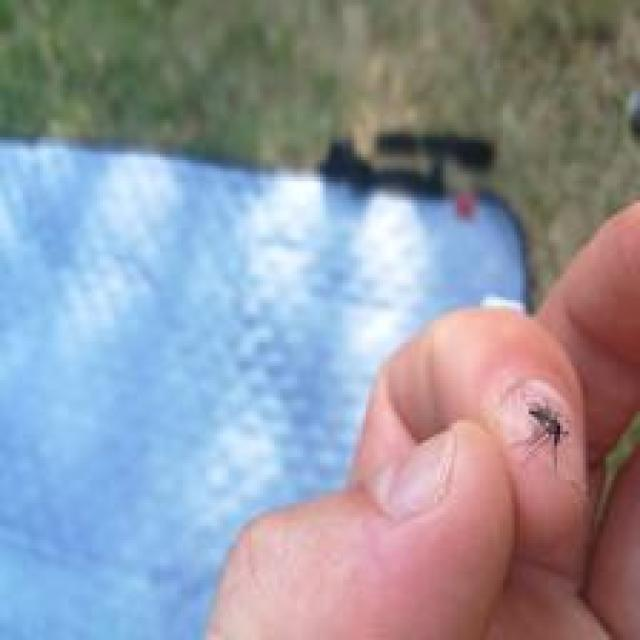Aedes albopictus: (521, 400, 570, 469)
